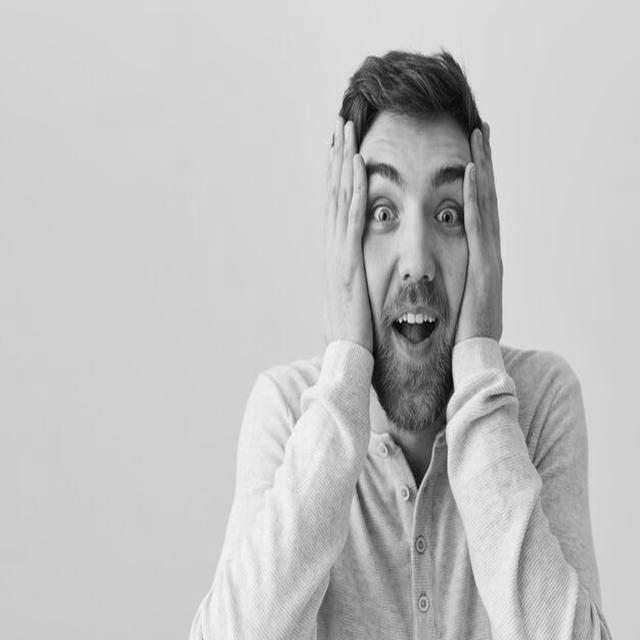Surprised: (353, 111, 477, 432)
